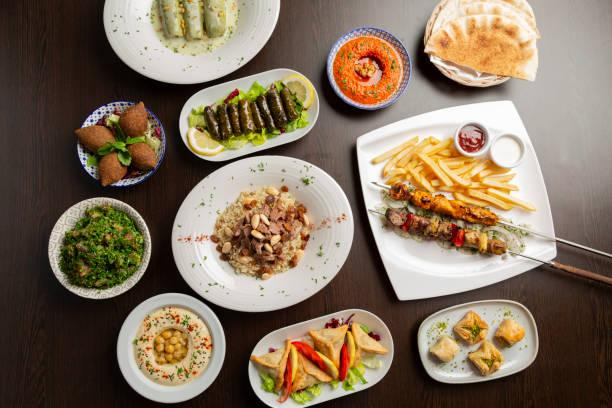Braised Crucian Carp: (354, 98, 550, 301), (173, 154, 351, 309), (103, 0, 277, 84), (250, 309, 395, 408), (178, 67, 314, 162), (119, 293, 226, 404), (47, 197, 150, 299), (417, 299, 539, 384), (424, 1, 531, 86), (75, 101, 162, 188), (325, 27, 409, 111)
